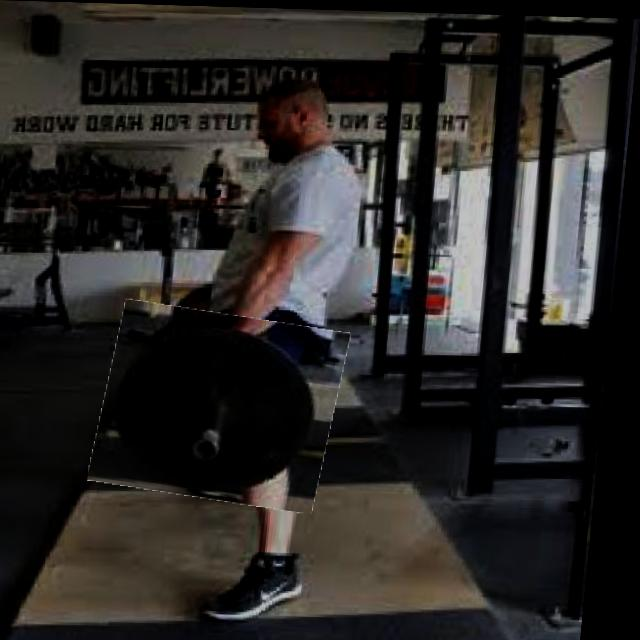barbell: (101, 305, 355, 506)
